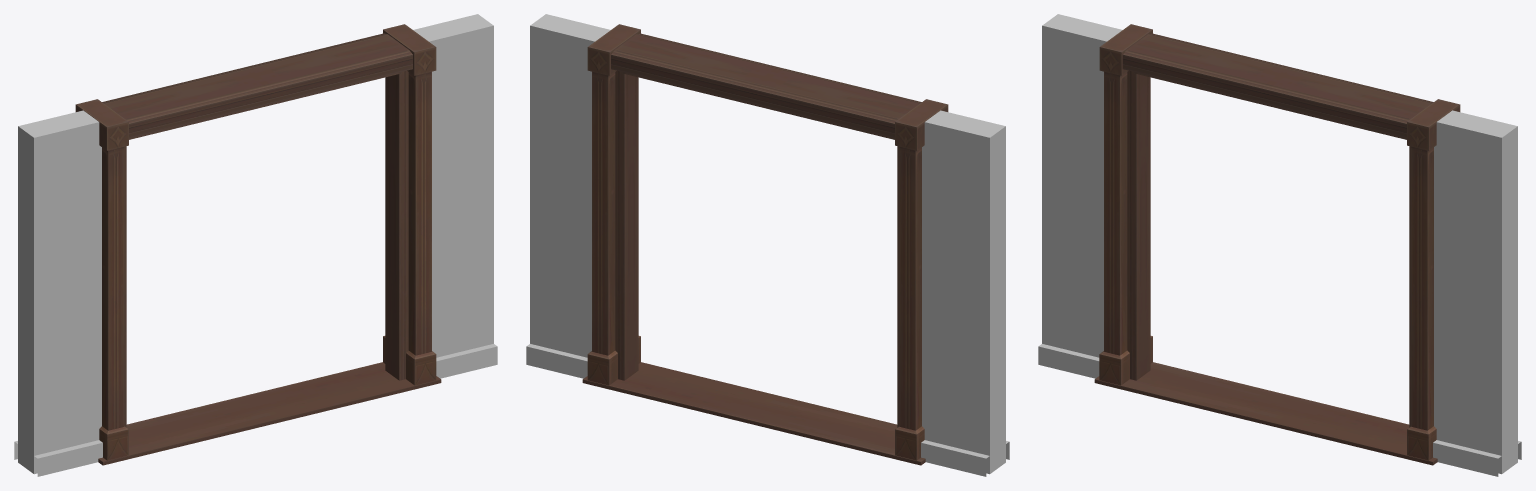
The model's file is Homeworld_Interior_Md_Room_Door_02_01_Vo.fbx.
3 views of the same model, side by side, from view 1: azimuth 30°, elevation 25°; view 2: azimuth 150°, elevation 25°; view 3: azimuth 330°, elevation 25° (orthographic).
Parts seen in each view (by area): view 1: Homeworld_Interior_Md_Room_Door_02_01_Vo; view 2: Homeworld_Interior_Md_Room_Door_02_01_Vo; view 3: Homeworld_Interior_Md_Room_Door_02_01_Vo.
Part boxes in pixels (x1=…): Homeworld_Interior_Md_Room_Door_02_01_Vo: x1=14, y1=14, x2=497, y2=476; Homeworld_Interior_Md_Room_Door_02_01_Vo: x1=526, y1=14, x2=1009, y2=476; Homeworld_Interior_Md_Room_Door_02_01_Vo: x1=1038, y1=14, x2=1521, y2=476.
Bounding box in the file's own units: 5 × 3.5 × 0.61.
